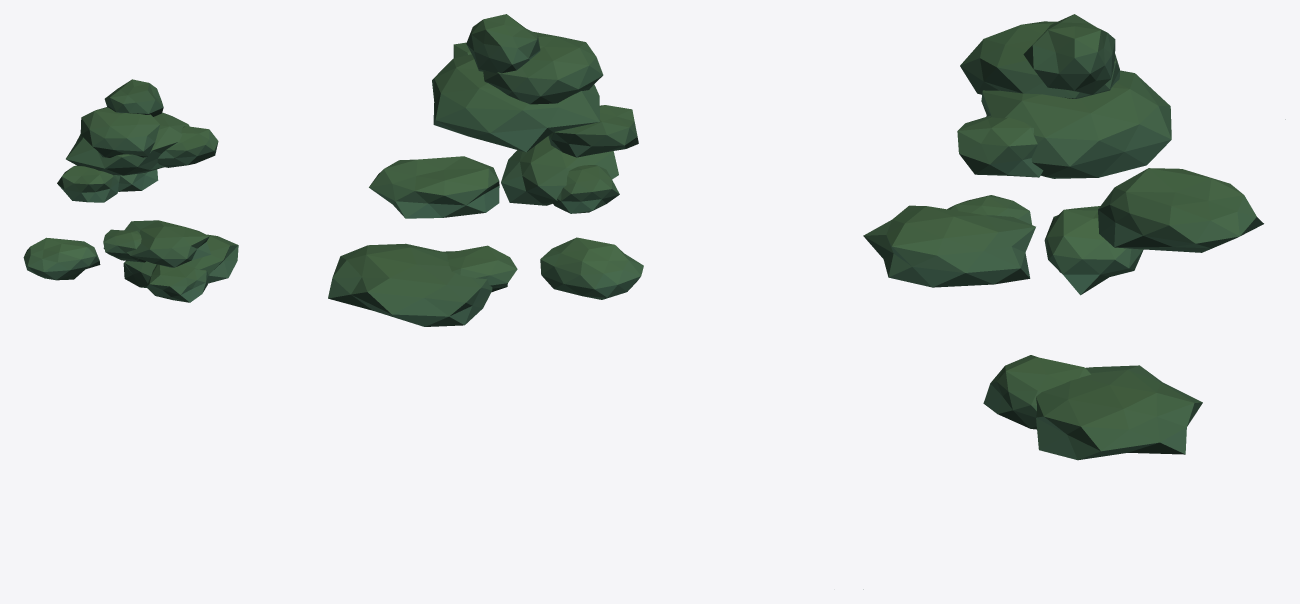
File: ShorePine2_leaf.glb
The picture shows the model from 3 angles, left to right: view 1: azimuth 30°, elevation 25°; view 2: azimuth 150°, elevation 25°; view 3: azimuth 270°, elevation 25°; orthographic projection. The views are drawn at different scales.
Visible parts, largest first — view 1: ShorePine2_leaf; view 2: ShorePine2_leaf; view 3: ShorePine2_leaf.
Part boxes in pixels (left/top/right/bottom): ShorePine2_leaf: left=23, top=79, right=238, bottom=302; ShorePine2_leaf: left=328, top=14, right=643, bottom=326; ShorePine2_leaf: left=863, top=14, right=1285, bottom=589.
Bounding box in the file's own units: 15.11 × 20.45 × 10.93.
